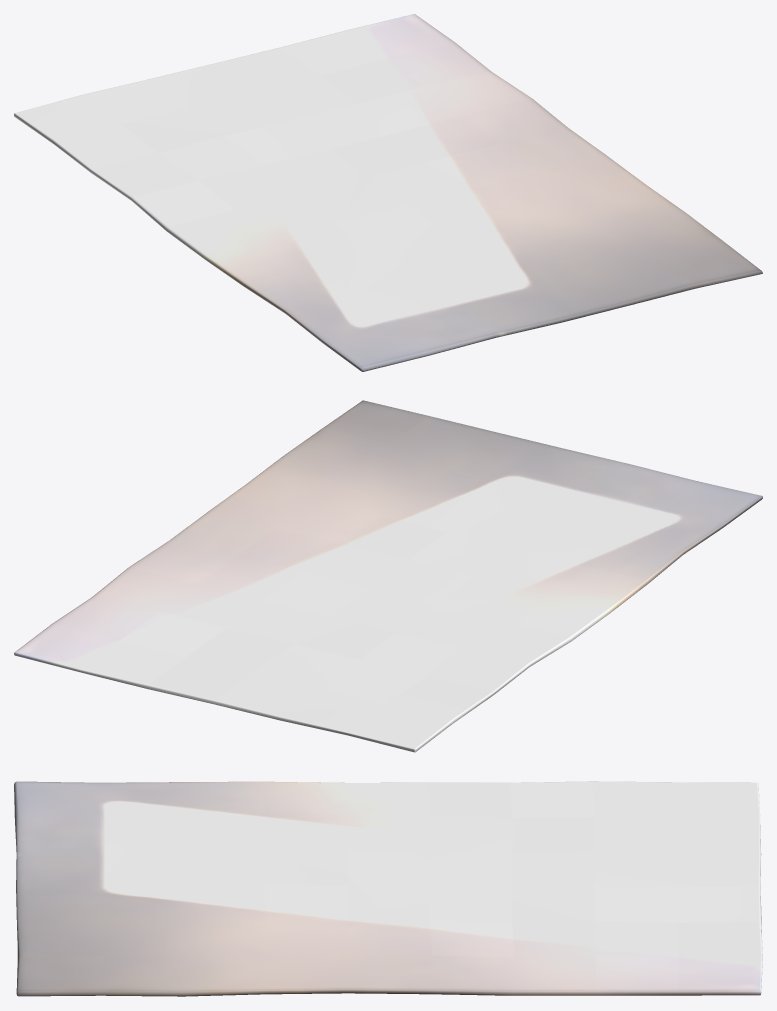
The model's file is Carpet.gltf.
The picture shows the model from 3 angles, top to bottom: view 1: azimuth 30°, elevation 25°; view 2: azimuth 150°, elevation 25°; view 3: azimuth 270°, elevation 25°; orthographic projection. The views are drawn at different scales.
Parts seen in each view (by area): view 1: Carpet; view 2: Carpet; view 3: Carpet.
Part boxes in pixels (left/top/right/bottom): Carpet: left=14, top=14, right=762, bottom=371; Carpet: left=14, top=400, right=762, bottom=752; Carpet: left=14, top=781, right=762, bottom=996.
Size of the model in its own units: 1.31 by 0.0188 by 1.97.
Materials: 1 (1 with a texture image).
